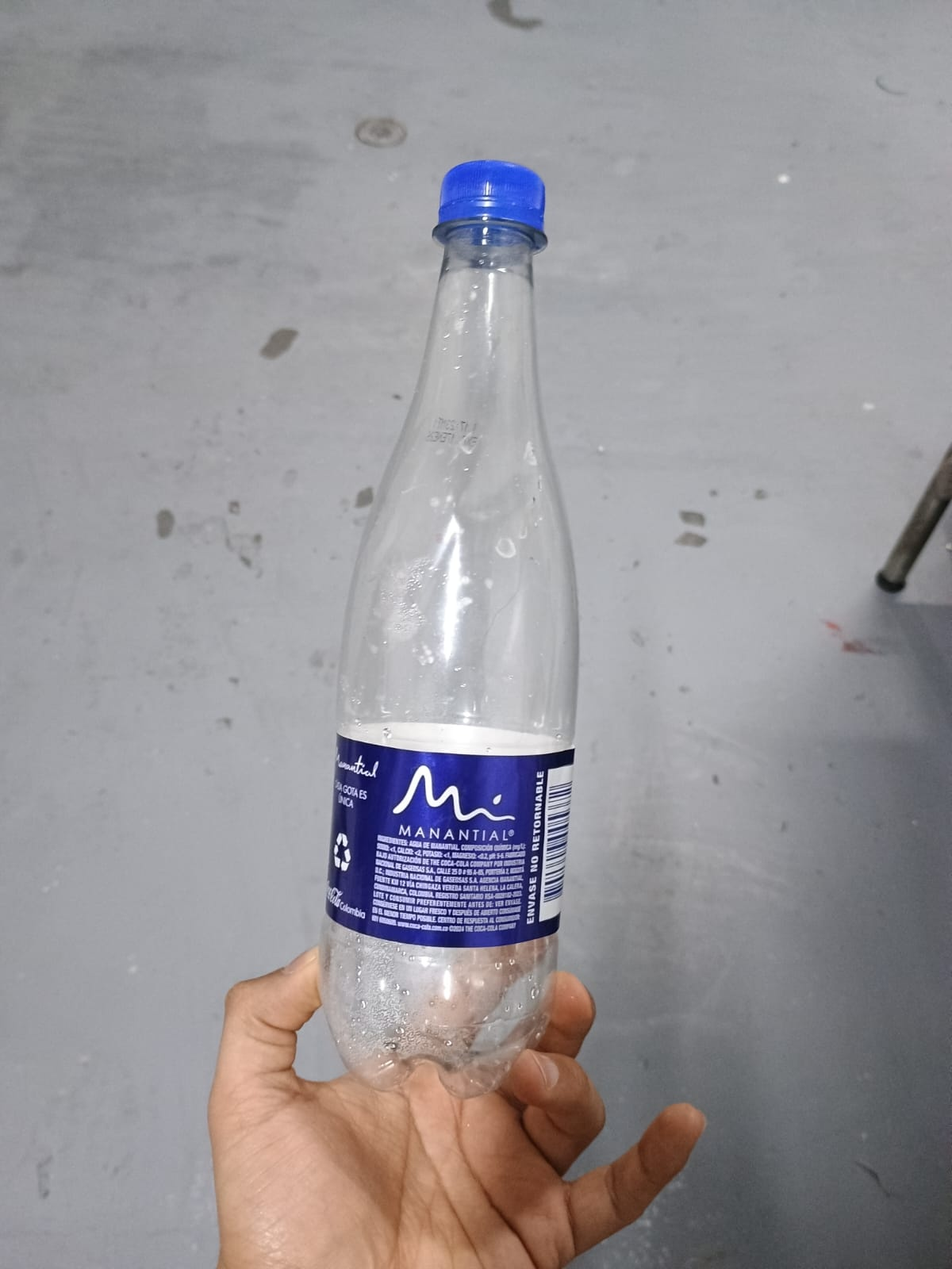Plastico: (319, 161, 581, 1090)
